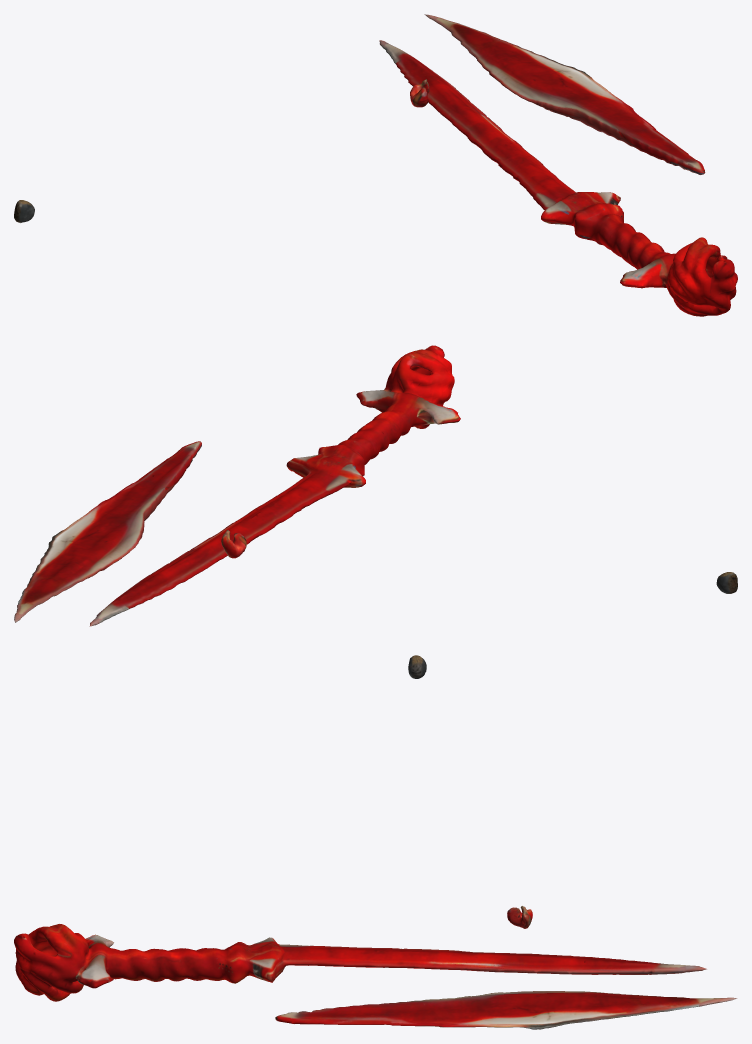
File: BloodyKnife.fbx
The picture shows the model from 3 angles, top to bottom: view 1: azimuth 30°, elevation 25°; view 2: azimuth 150°, elevation 25°; view 3: azimuth 270°, elevation 25°; orthographic projection.
Visible parts, largest first — view 1: Mesh1.0; view 2: Mesh1.0; view 3: Mesh1.0.
Boxes of the visible parts, left/top/right/bottom form: Mesh1.0: left=14, top=14, right=737, bottom=316; Mesh1.0: left=14, top=345, right=737, bottom=626; Mesh1.0: left=14, top=655, right=737, bottom=1029.
Size of the model in its own units: 105 by 16.58 by 106.
Materials: 1 (1 with a texture image).
